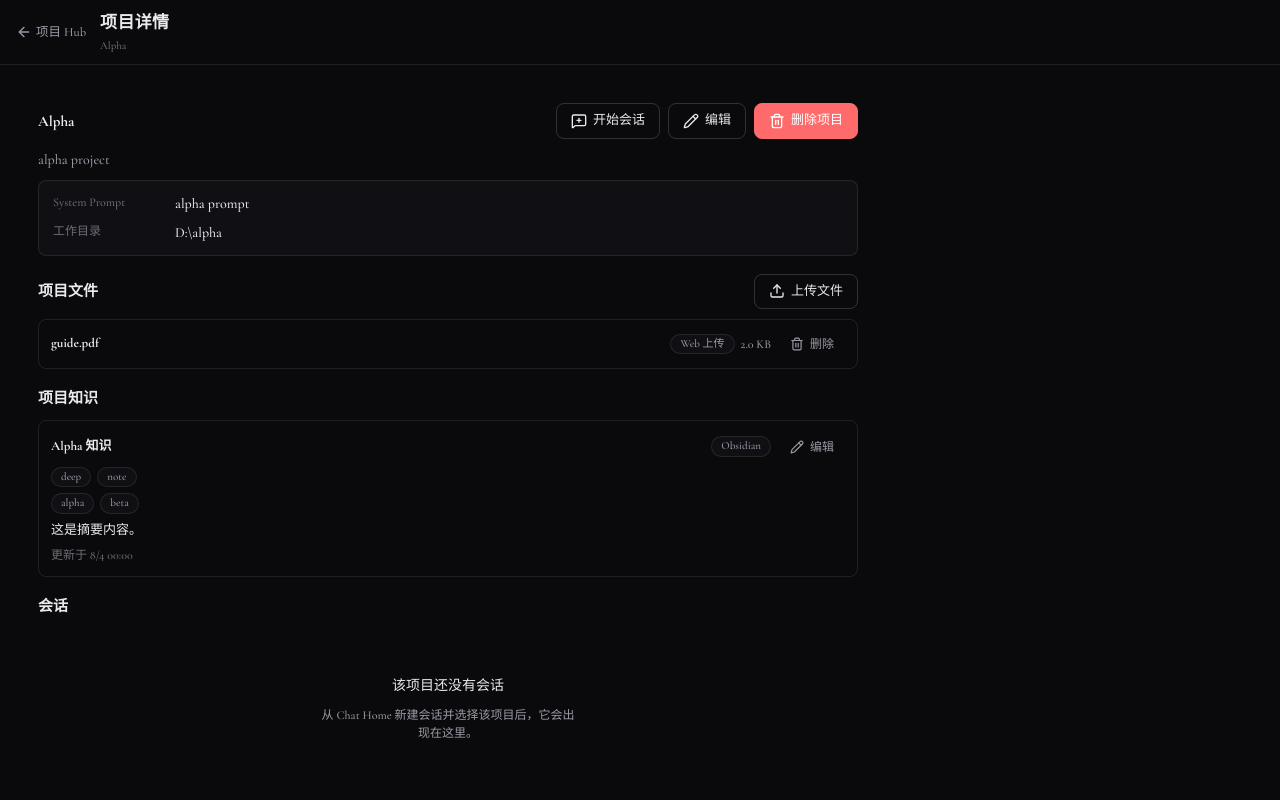
Test: P2B Project Knowledge (D2, Plan §6.4/§8.6) › keyword-only change makes NO embedding/indexing claim
Expected: the text "Alpha 知识" is shown, [51,438,112,454]
Click the button "编辑" next to "Obsidian" at {"x": 812, "y": 446}, box [779,432,845,460]
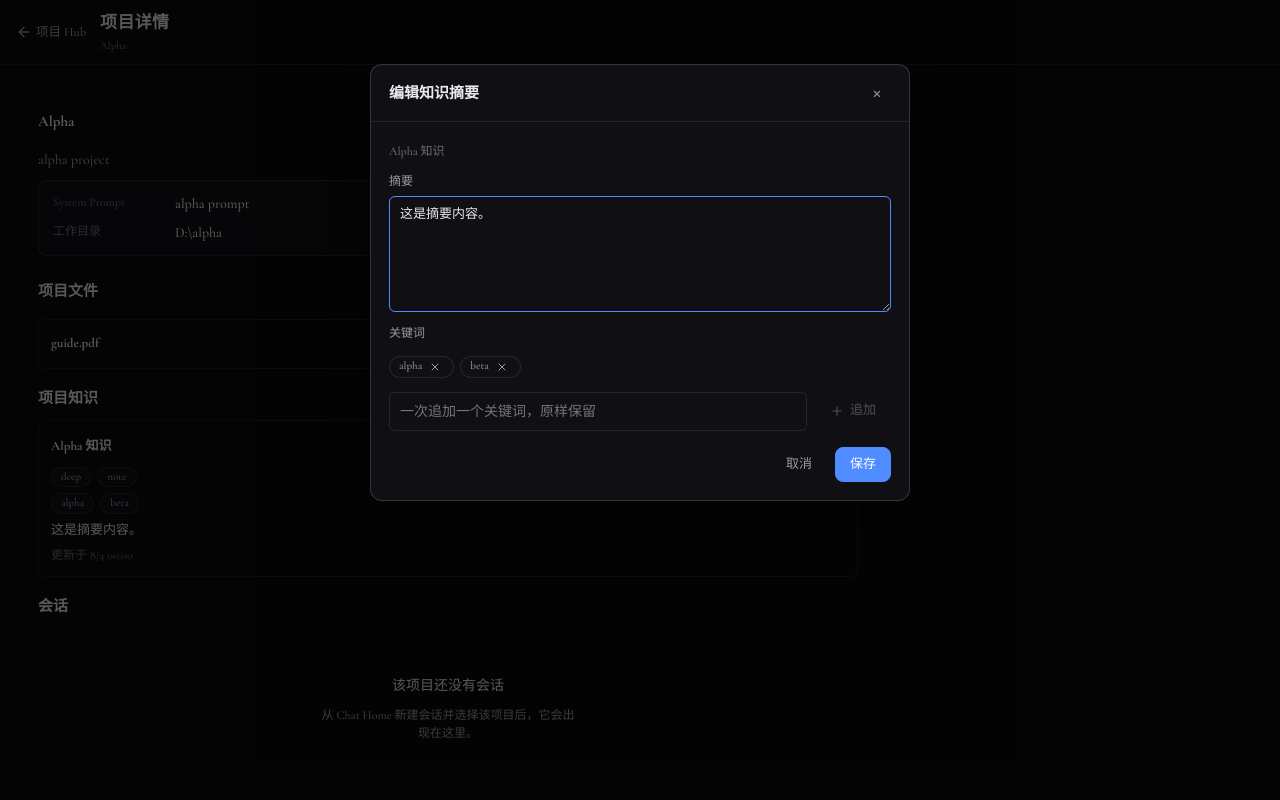
Type "gamma" into the field named "新增关键词" at {"x": 598, "y": 411}, box [389,392,807,430]
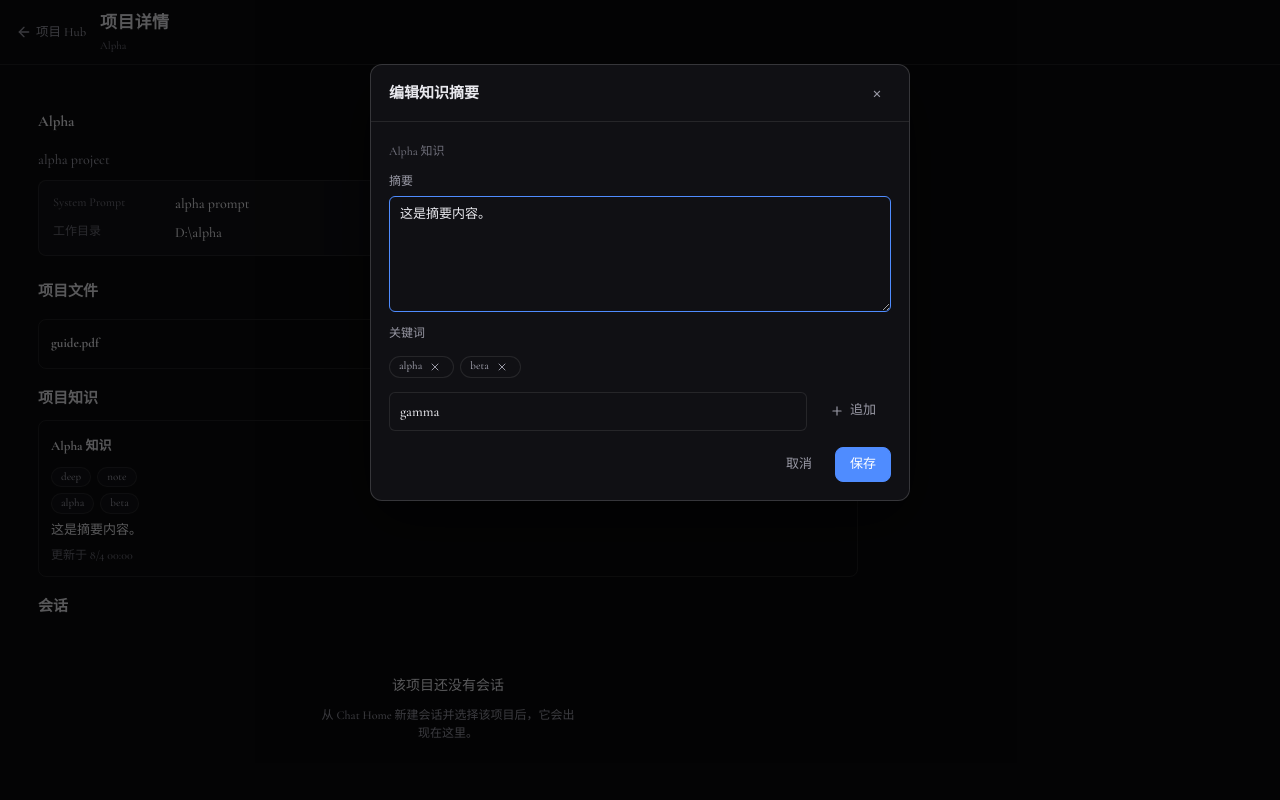
Click the button "追加" at {"x": 853, "y": 411}, box [815,393,891,429]
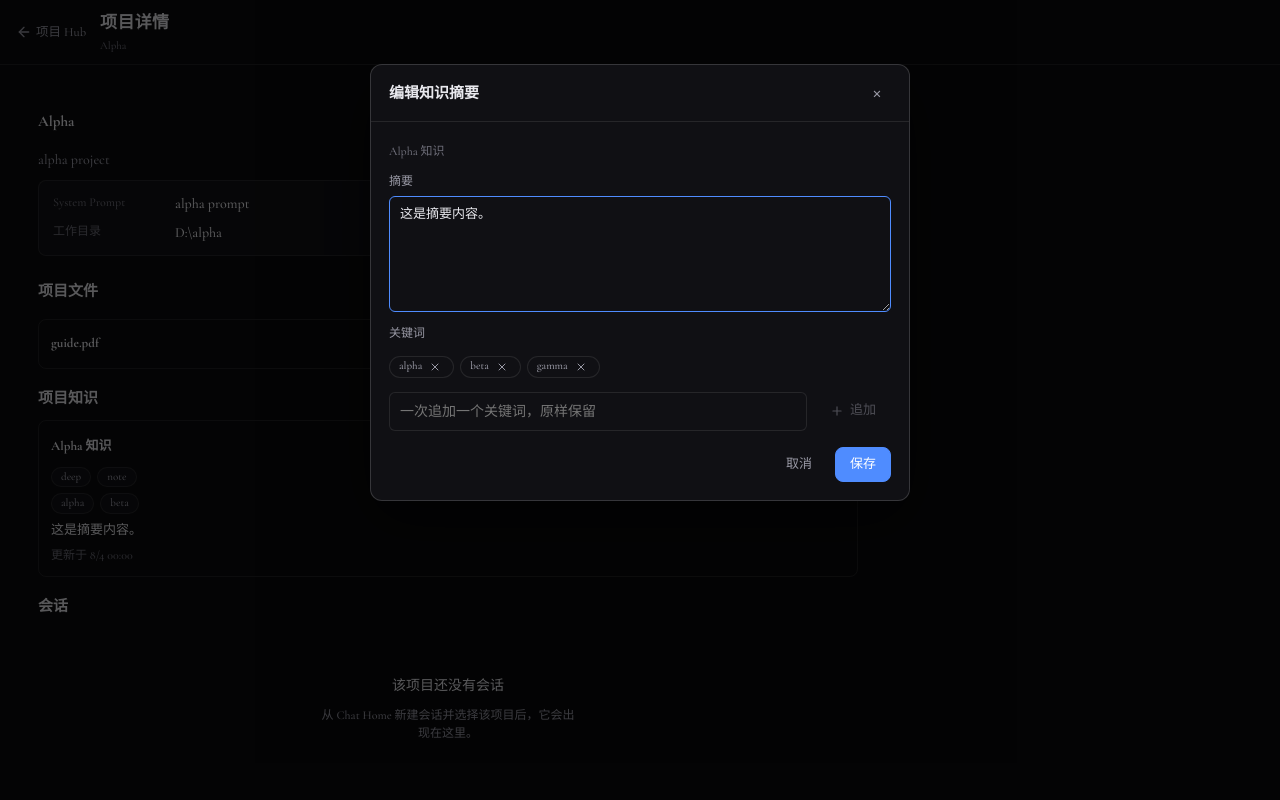
Click the button "保存" at {"x": 863, "y": 464}, box [835,446,891,482]
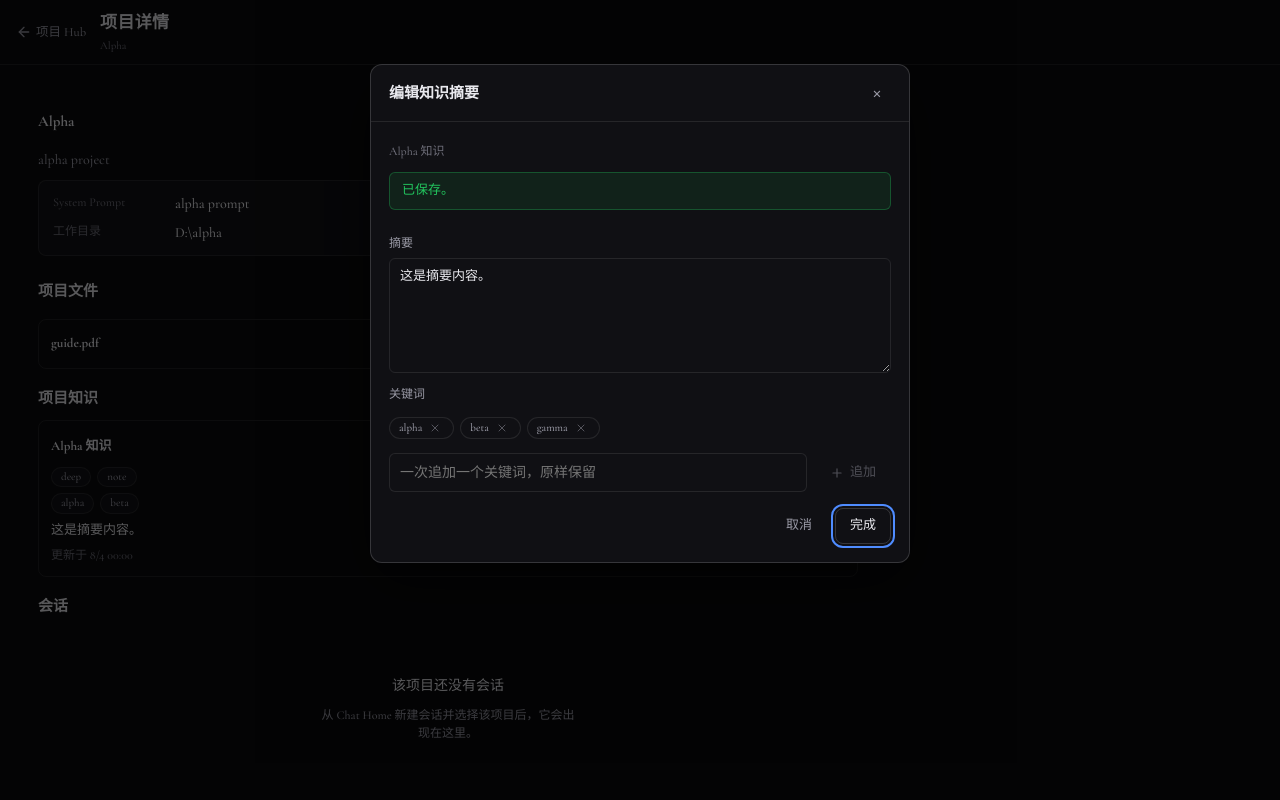
Expected: the text "已保存。" is shown, [389,172,891,210]
